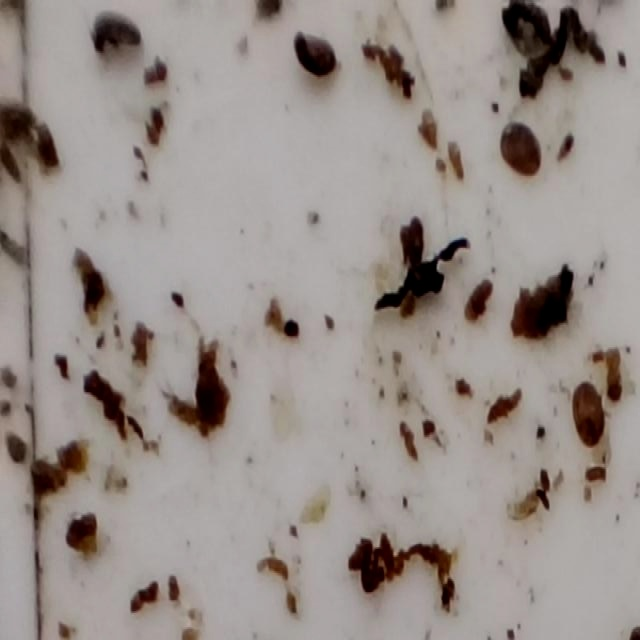varroa: (498, 117, 547, 177), (292, 22, 342, 73)
